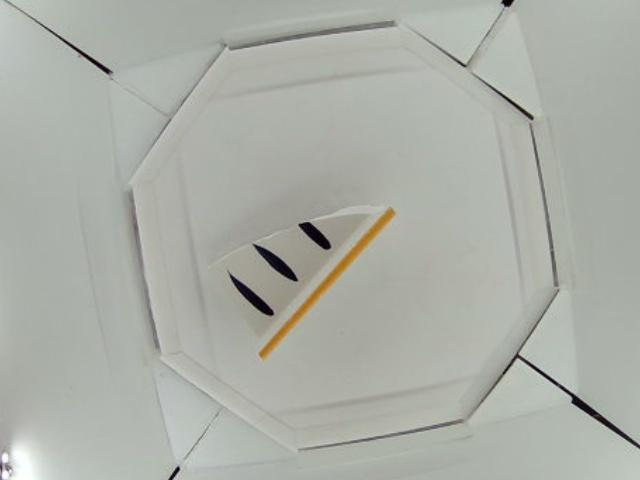China: (208, 204, 398, 361)
